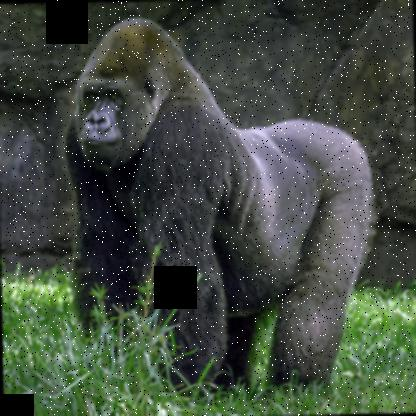Gorilla gorilla: (61, 12, 378, 402)
